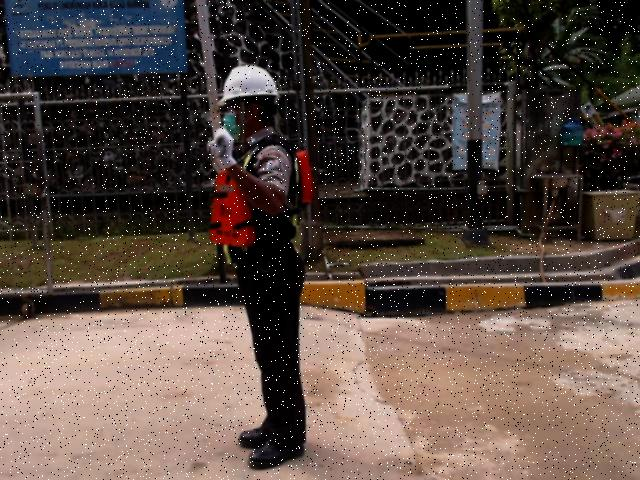glasses: (219, 101, 258, 114)
gloves: (213, 126, 240, 169)
helmet: (215, 62, 282, 106)
mask: (222, 113, 243, 140)
safety-shoes: (246, 441, 304, 472), (237, 420, 273, 446)
vest: (208, 148, 318, 248)
